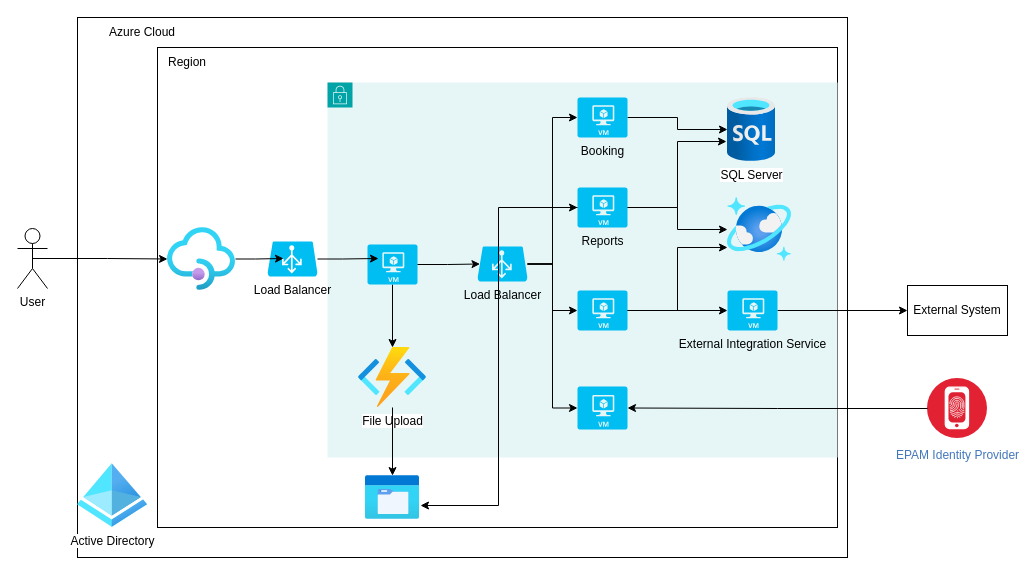
Image size: 1036x575. Some labels were removed from this diagram. Here are the shapes that lost their labels. From the top down, the box of each, then its label:
(727, 197, 791, 261): Cosmos DB
(167, 227, 235, 290): API Management
(367, 244, 417, 284): Processing
(326, 82, 838, 458): Booking System VNet
(577, 290, 627, 330): Search
(577, 386, 627, 429): Auth
